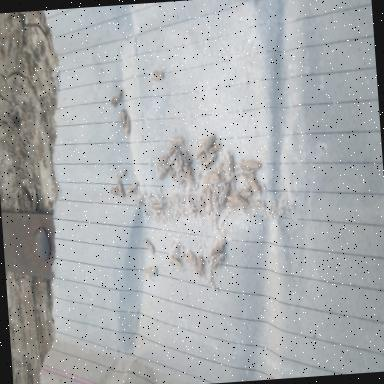pbw: (208, 236, 228, 254), (226, 192, 250, 206), (146, 198, 168, 212), (210, 254, 230, 268), (248, 174, 262, 194), (224, 153, 234, 180), (108, 86, 123, 104), (140, 236, 156, 252), (242, 156, 260, 170), (202, 189, 212, 213), (122, 114, 134, 134), (235, 164, 255, 176), (116, 106, 128, 126), (168, 239, 182, 256), (142, 264, 160, 277), (167, 254, 183, 268), (202, 152, 218, 166), (218, 184, 228, 206), (155, 164, 169, 179), (178, 170, 195, 182), (196, 252, 204, 276), (188, 248, 198, 267), (162, 144, 177, 156), (211, 186, 219, 208), (205, 142, 221, 153), (124, 180, 138, 192), (206, 169, 221, 180), (117, 179, 125, 198), (154, 155, 168, 165), (167, 163, 175, 180), (169, 137, 184, 146), (166, 153, 178, 164), (108, 186, 118, 196)
